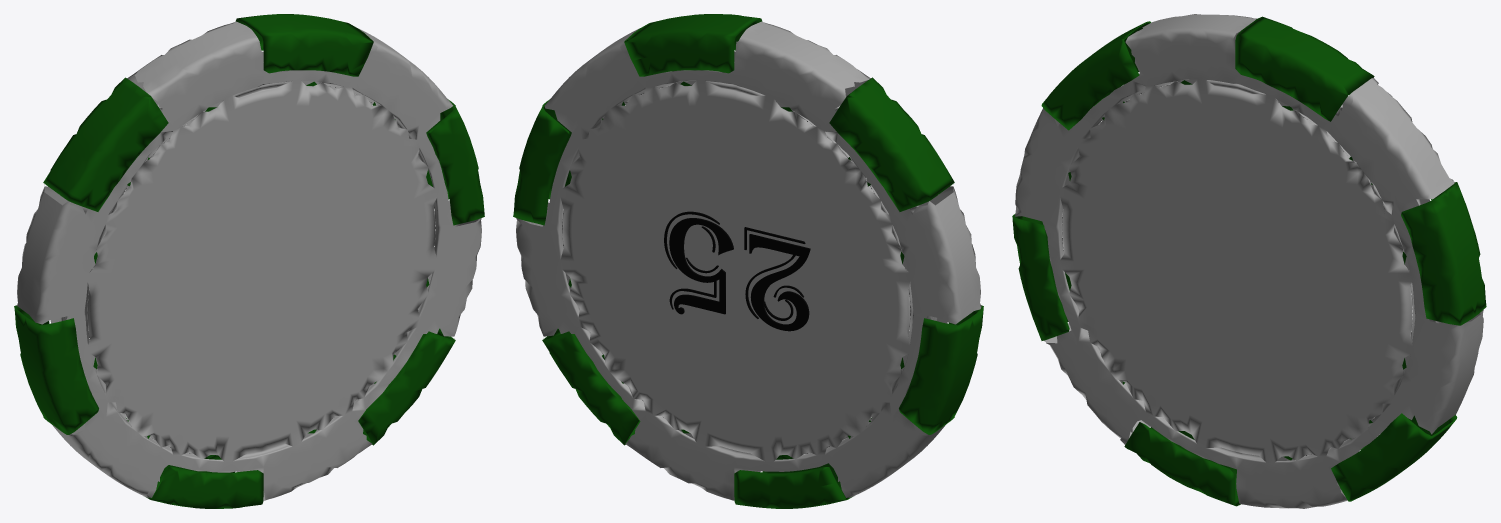
File: Chip-25.obj
The picture shows the model from 3 angles, left to right: view 1: azimuth 30°, elevation 25°; view 2: azimuth 150°, elevation 25°; view 3: azimuth 330°, elevation 25°; orthographic projection.
Visible parts, largest first — view 1: Chip-25; view 2: Chip-25; view 3: Chip-25.
Boxes of the visible parts, left/top/right/bottom form: Chip-25: left=14, top=14, right=484, bottom=508; Chip-25: left=513, top=14, right=983, bottom=508; Chip-25: left=1012, top=14, right=1486, bottom=508.
Bounding box in the file's own units: 0.9996 × 1 × 0.1098.
